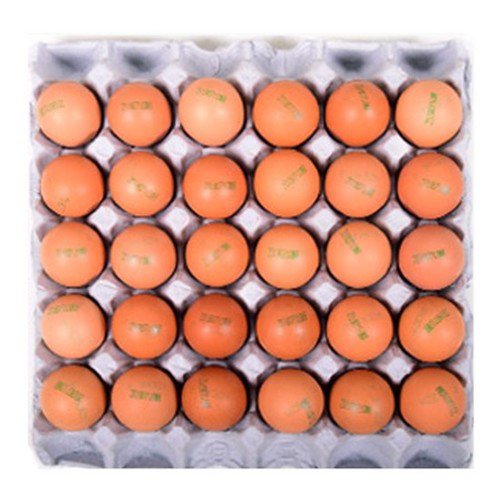egg: (36, 79, 475, 437)
